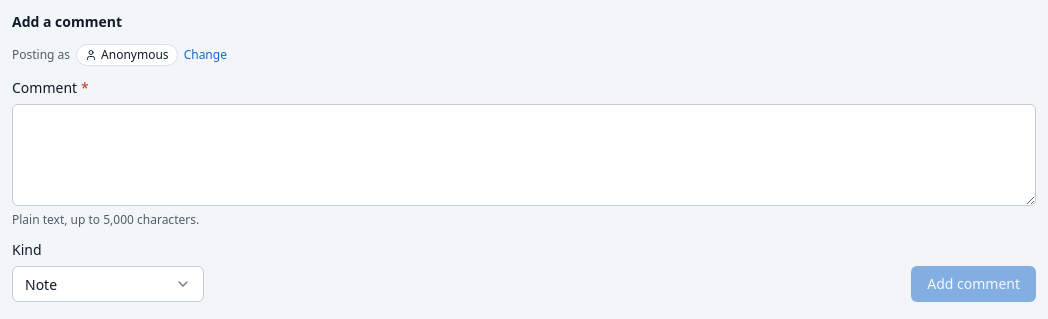
Test: CommentComposer › maps a server VALIDATION_ERROR onto the field it names
In the text box labelled "Comment*": {"x": 524, "y": 155} [12, 104, 1036, 206], type "Swapped the lamp module."
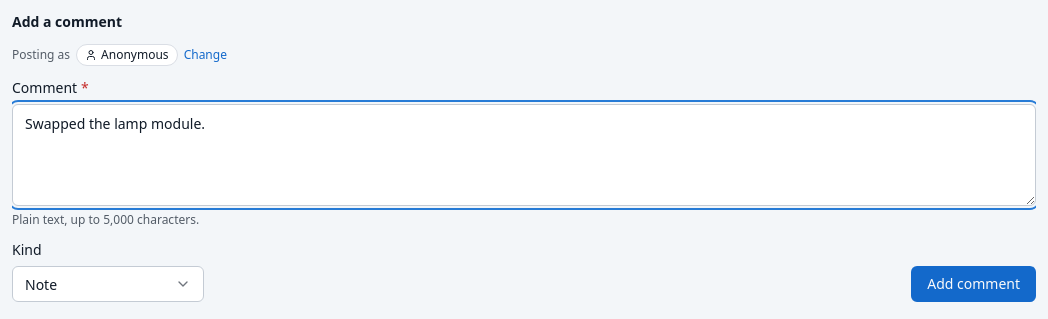
Click the button "Add comment": {"x": 974, "y": 284} [911, 266, 1036, 302]
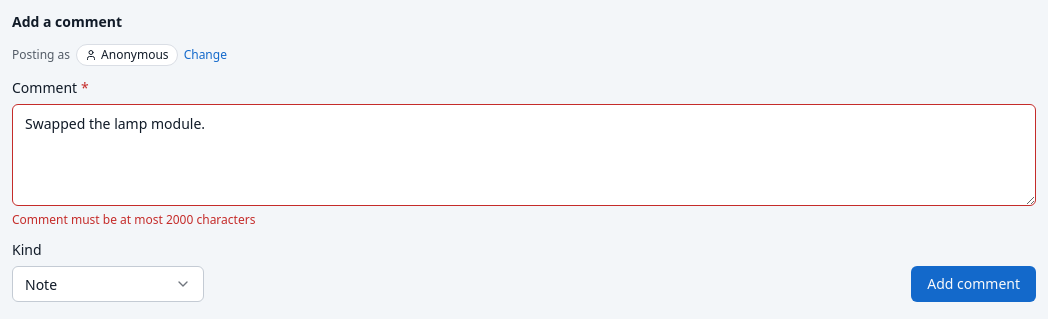
Check: the text "Comment must be at most 2000 characters" is shown, box [12, 211, 255, 228]
